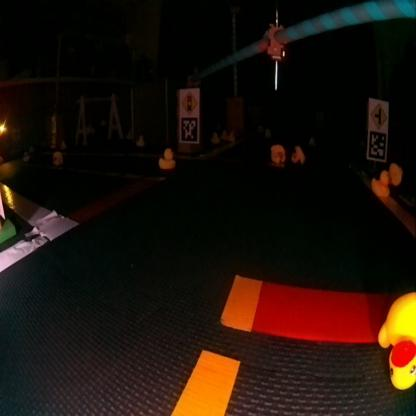Duckie: (378, 290, 415, 387), (370, 169, 390, 195), (158, 147, 174, 168), (270, 143, 285, 164), (388, 162, 402, 184), (292, 145, 305, 163), (52, 150, 62, 164), (135, 134, 143, 144), (210, 132, 218, 141), (229, 131, 234, 140)
Intersection sign: (369, 99, 388, 129)
QR code: (367, 129, 386, 160), (180, 116, 198, 142)
Signal sign: (180, 90, 198, 114)
Traffic light: (267, 31, 285, 58)
